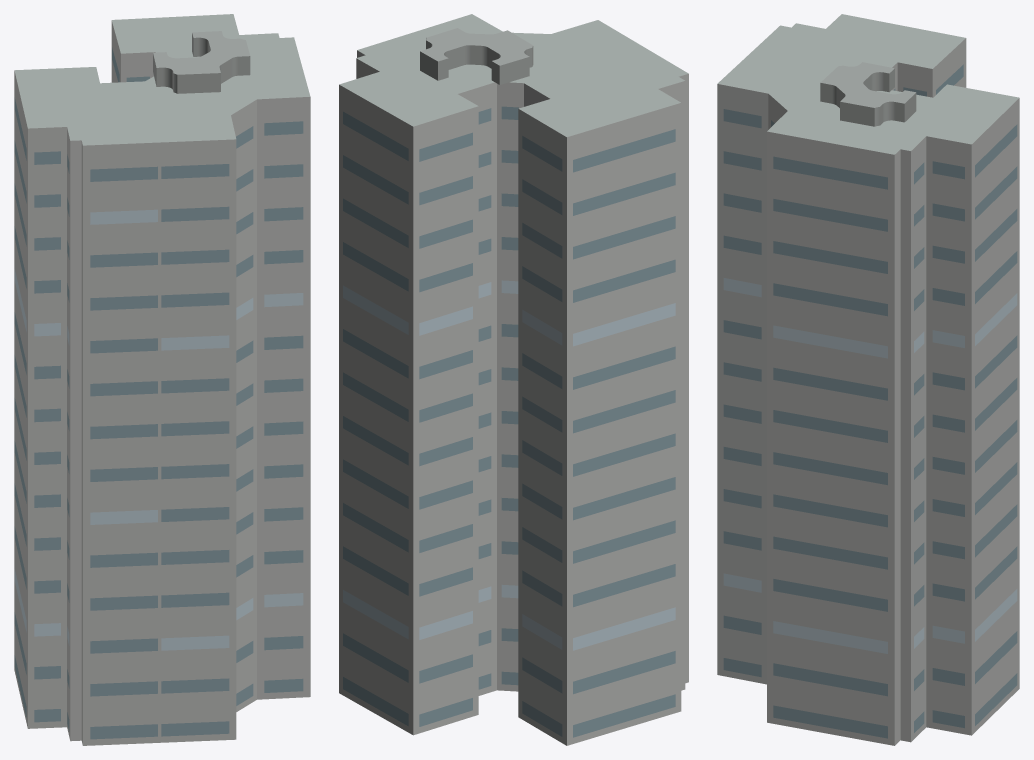
Rendered from apt-a10020044.glb.
The picture shows the model from 3 angles, left to right: view 1: azimuth 30°, elevation 25°; view 2: azimuth 150°, elevation 25°; view 3: azimuth 270°, elevation 25°; orthographic projection. The views are drawn at different scales.
Visible parts, largest first — view 1: apt-a10020044; view 2: apt-a10020044; view 3: apt-a10020044.
Boxes of the visible parts, x1,y1,x2,y2 form: apt-a10020044: [14, 14, 310, 745]; apt-a10020044: [339, 14, 688, 745]; apt-a10020044: [717, 14, 1019, 745].
Size of the model in its own units: 38.63 by 78 by 35.05.
